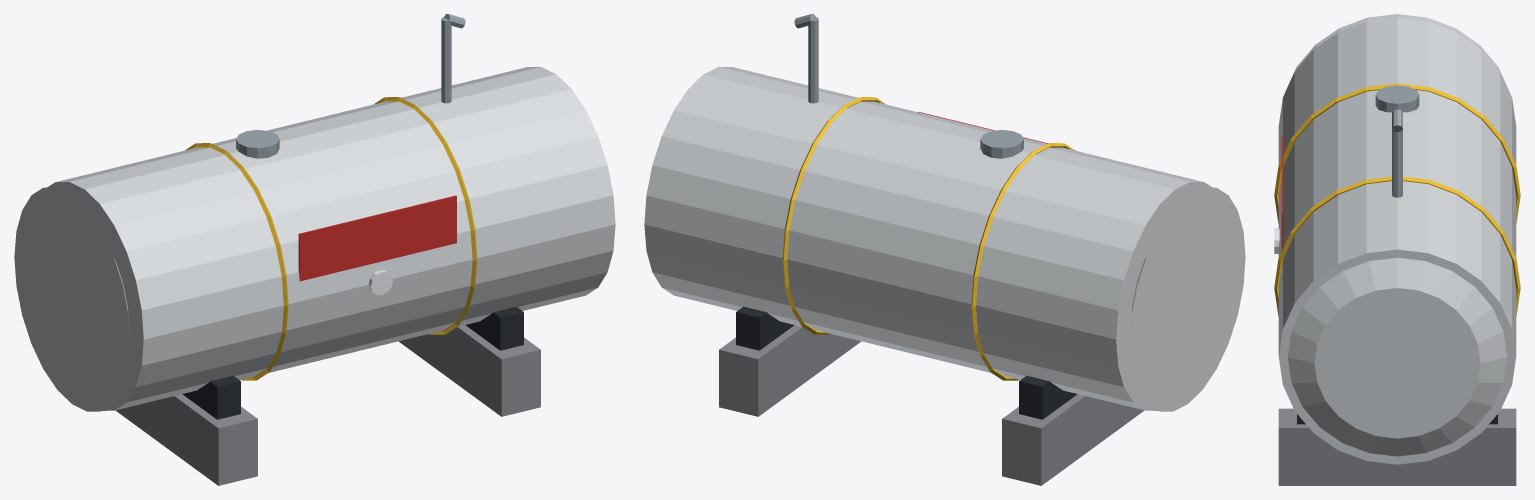
File: 46_Fuel_Tank_Horizontal.fbx
3 renders of one model, left to right at view 1: azimuth 30°, elevation 25°; view 2: azimuth 150°, elevation 25°; view 3: azimuth 270°, elevation 25°, orthographic.
Visible parts, largest first — view 1: 46_Fuel_Tank_Horizontal; view 2: 46_Fuel_Tank_Horizontal; view 3: 46_Fuel_Tank_Horizontal.
Boxes of the visible parts, box(x1,y1,x2,y2) form: 46_Fuel_Tank_Horizontal: box(14, 14, 615, 485); 46_Fuel_Tank_Horizontal: box(644, 14, 1245, 485); 46_Fuel_Tank_Horizontal: box(1274, 14, 1520, 485).
Bounding box in the file's own units: 3.16 × 2.18 × 1.35.
